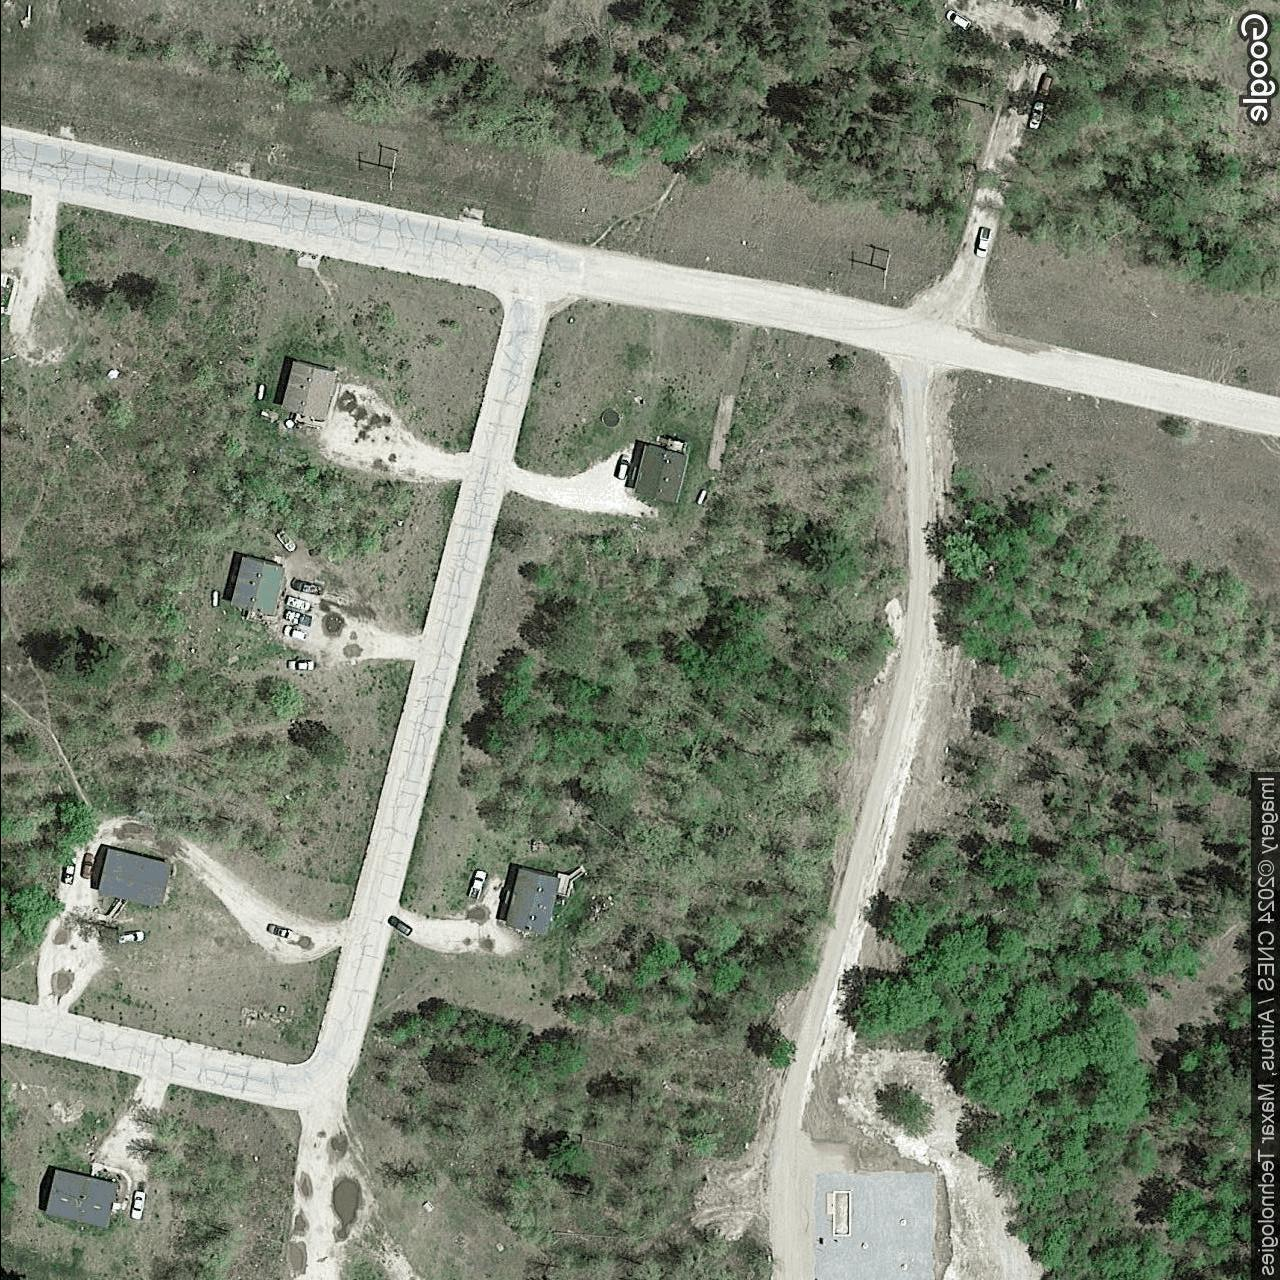House: (43, 1165, 118, 1231), (96, 846, 172, 908), (502, 864, 560, 937), (279, 359, 340, 422), (229, 554, 286, 618), (633, 443, 689, 506)
Propane: (693, 486, 709, 506), (207, 588, 219, 608), (254, 383, 266, 401)
